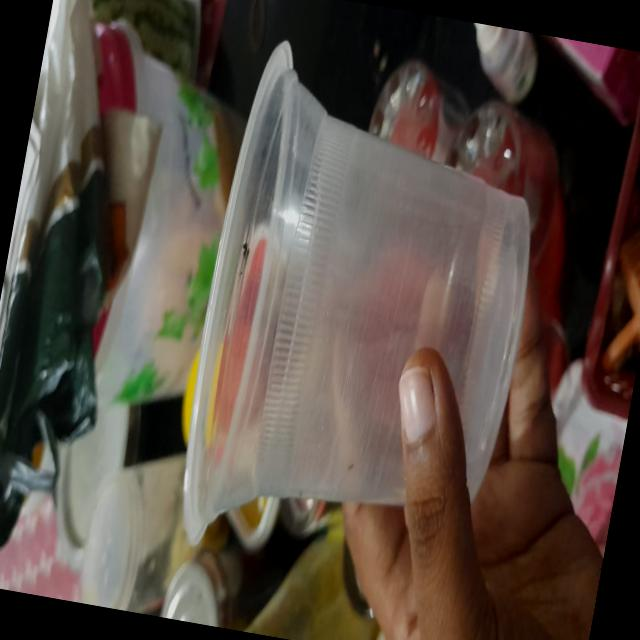Plastic - Recyclable: (163, 32, 562, 598)
